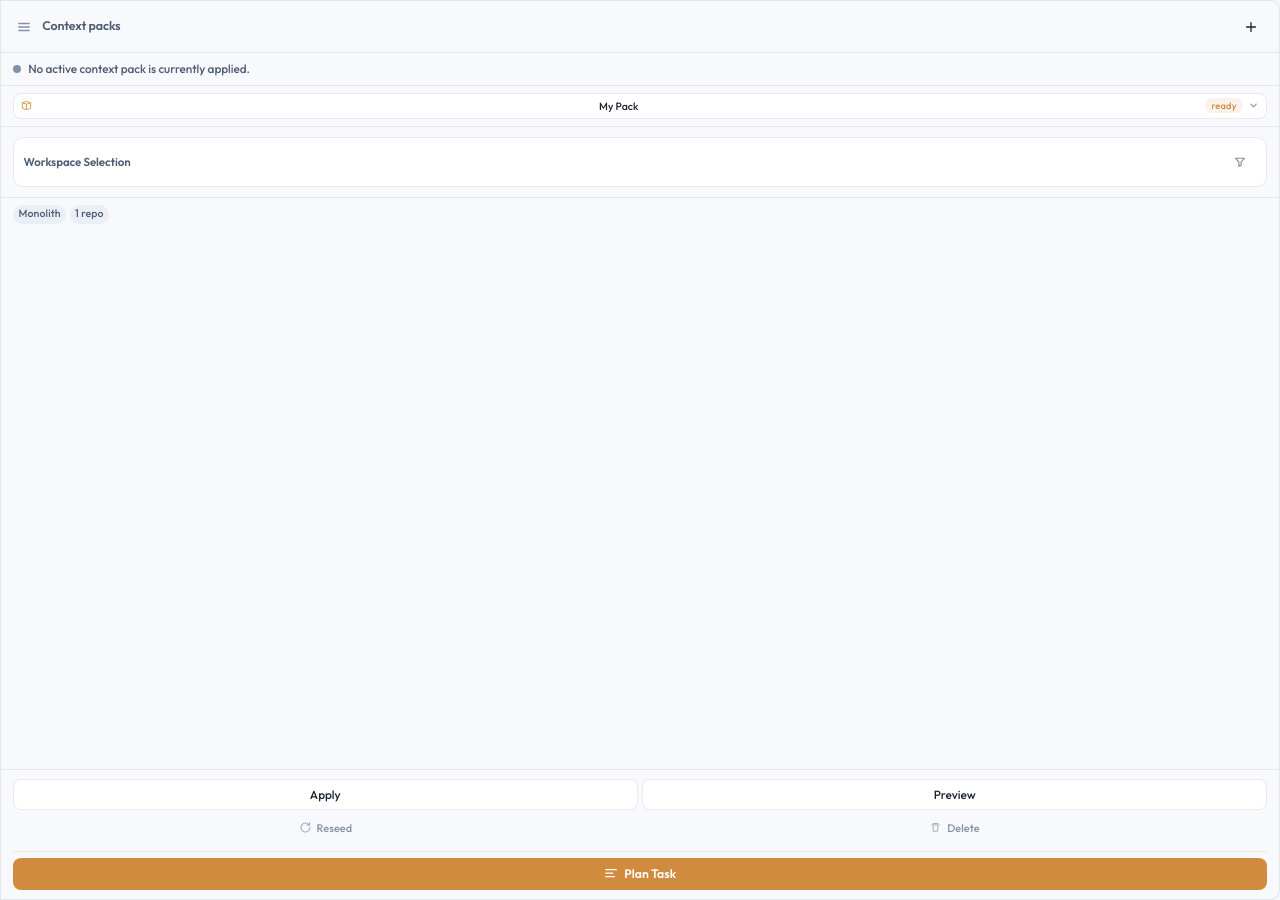
Test: ContextPackSidebarExpanded › opens the Focus Filters modal from Workspace Selection
Click the button named "Manage focus filters": (1240,162) [1224,146,1256,178]
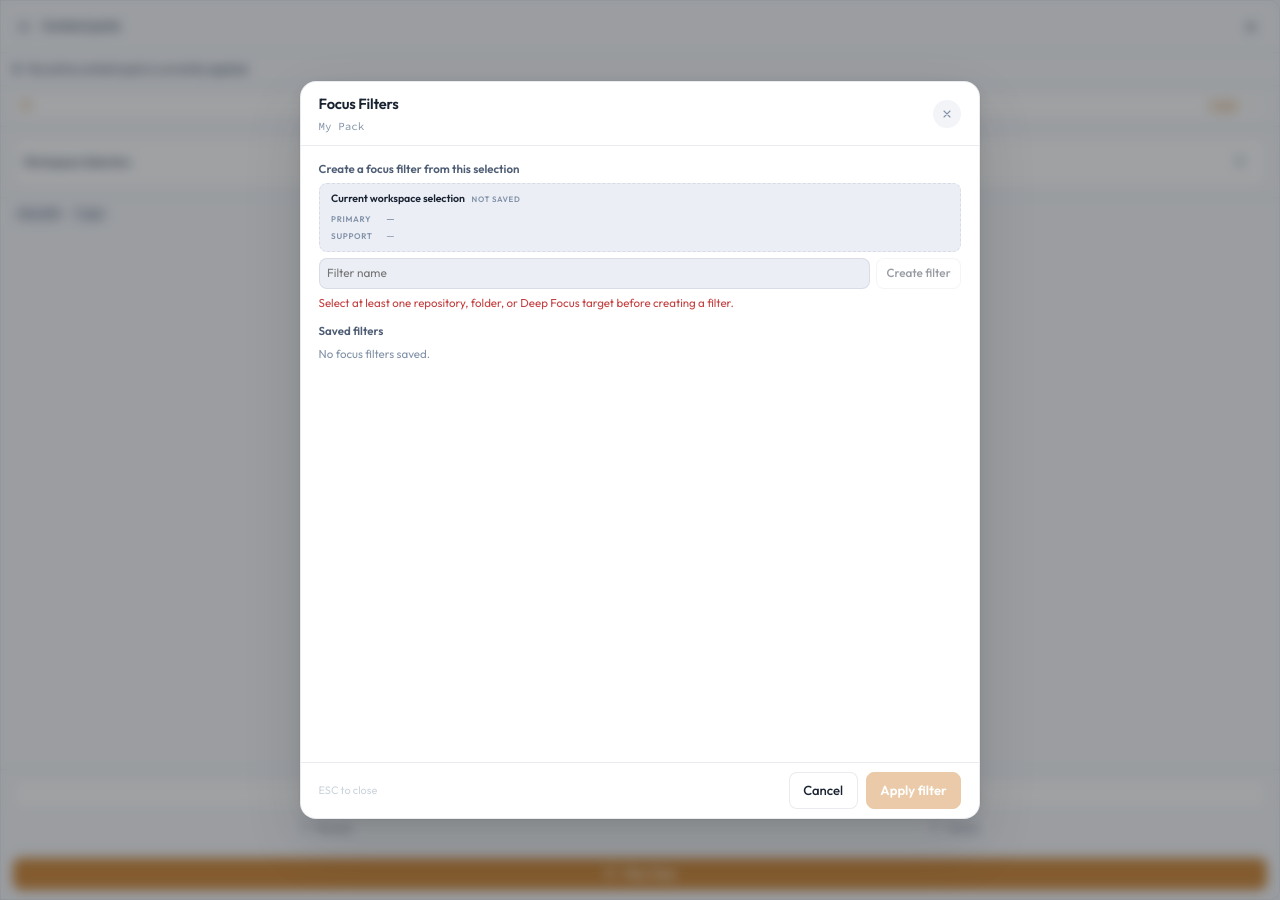
Expected: the dialog "Focus Filters" is shown, [300,81,980,819]
